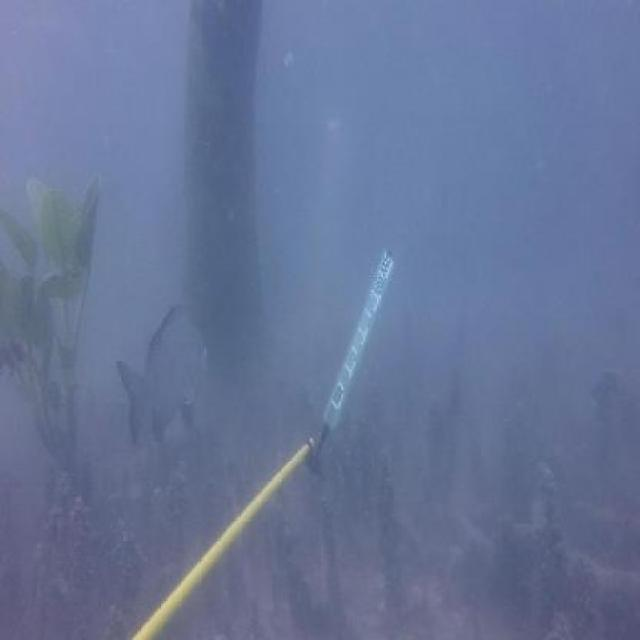acanthopagrus_palmaris: (116, 301, 216, 447)
